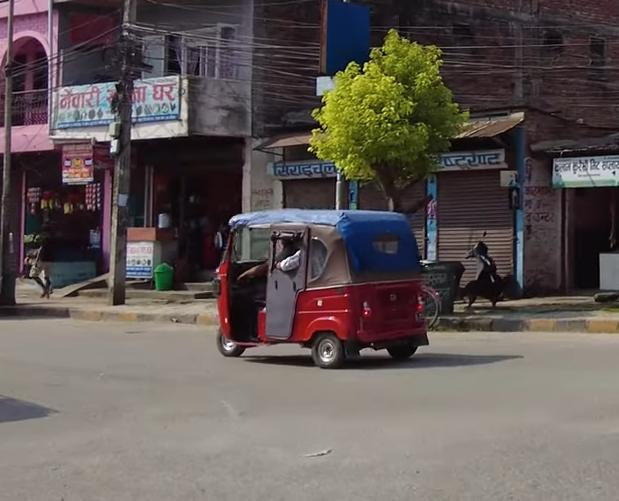auto_rickshaw: (209, 203, 434, 375)
